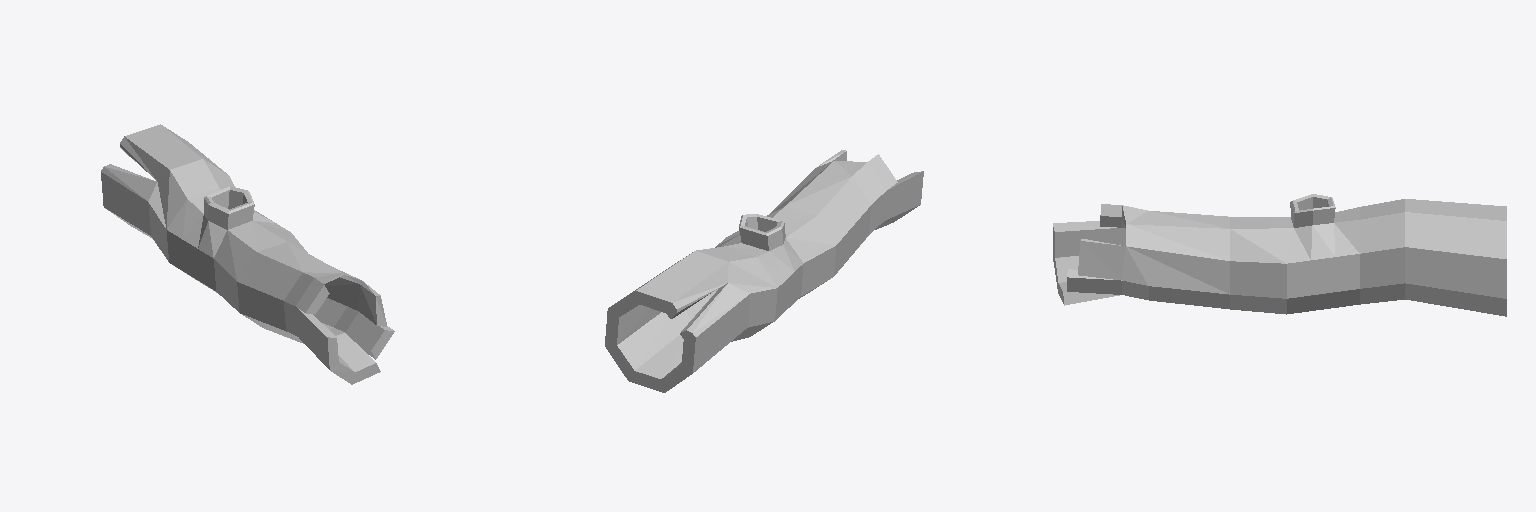
The model's file is Log2.obj.
The picture shows the model from 3 angles: view 1: azimuth 30°, elevation 25°; view 2: azimuth 150°, elevation 25°; view 3: azimuth 270°, elevation 25°; orthographic projection.
Visible parts, largest first — view 1: Log.002_Circle.003; view 2: Log.002_Circle.003; view 3: Log.002_Circle.003.
Part boxes in pixels (x1,y1,x2,y2): Log.002_Circle.003: (101,124,394,384); Log.002_Circle.003: (605,150,923,392); Log.002_Circle.003: (1053,194,1506,316).
Bounding box in the file's own units: 1.93 × 1.92 × 7.68.